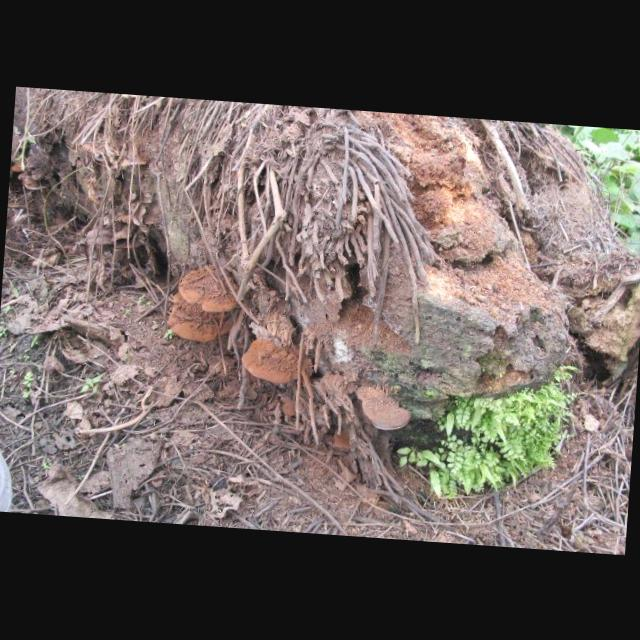ganoderma: (239, 335, 320, 387), (166, 291, 238, 346), (177, 263, 246, 315), (352, 383, 416, 434), (332, 424, 359, 452), (282, 397, 300, 419)
